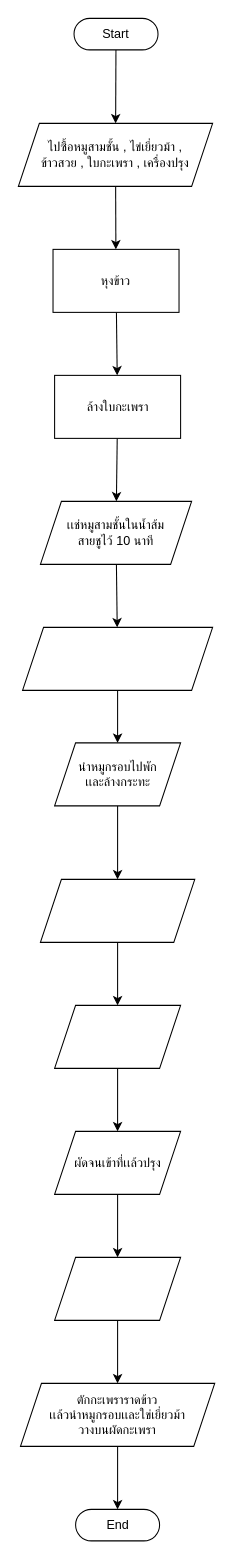
The diagram is 233 pixels wide and 1559 high, and some of its shapes have lost their labels. The centre of each missing label's shape, as x and y in pixels:
"ตักข้าวที่หุงเสร็จ เเล้วใส่จาน" belongs at (x=117, y=1288).
"ตั้งน้ำมันจนเดือดเเล้ว ใส่หอม , พริก" belongs at (x=117, y=910).
"นำหมูสามชั้นลงไปทอดจนหนัง กรอบลงทอดเเละพัก 1-2 รอบ" belongs at (x=117, y=658).
"ใส่ใบกะเพรา" belongs at (x=117, y=1036).
